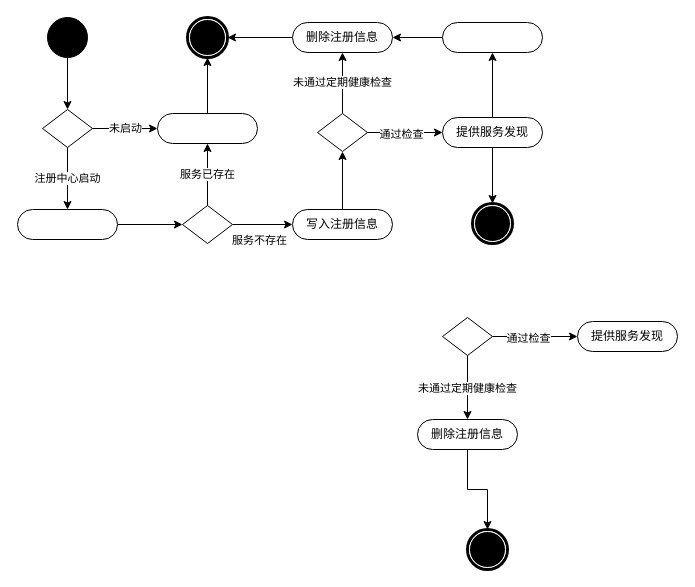
The diagram is 695 pixels wide and 587 high, and some of its shapes have lost their labels. The centre of each missing label's shape, as x and y in pixels:
"手动注销服务" goes at (492,37).
"抛出异常" goes at (207,128).
"注册微服务" goes at (67,224).
